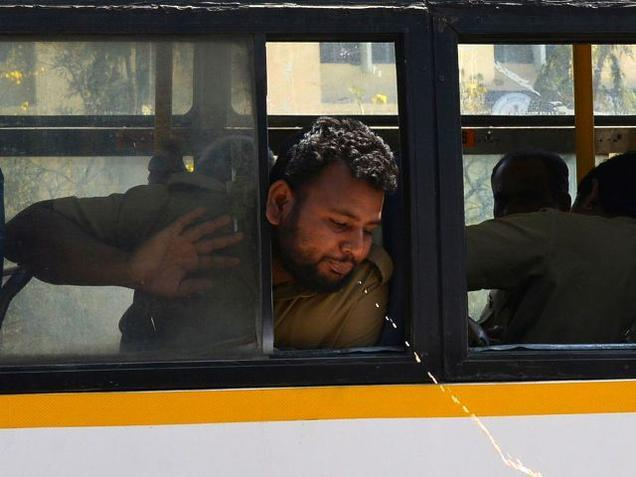Spitting: (268, 114, 431, 336)
